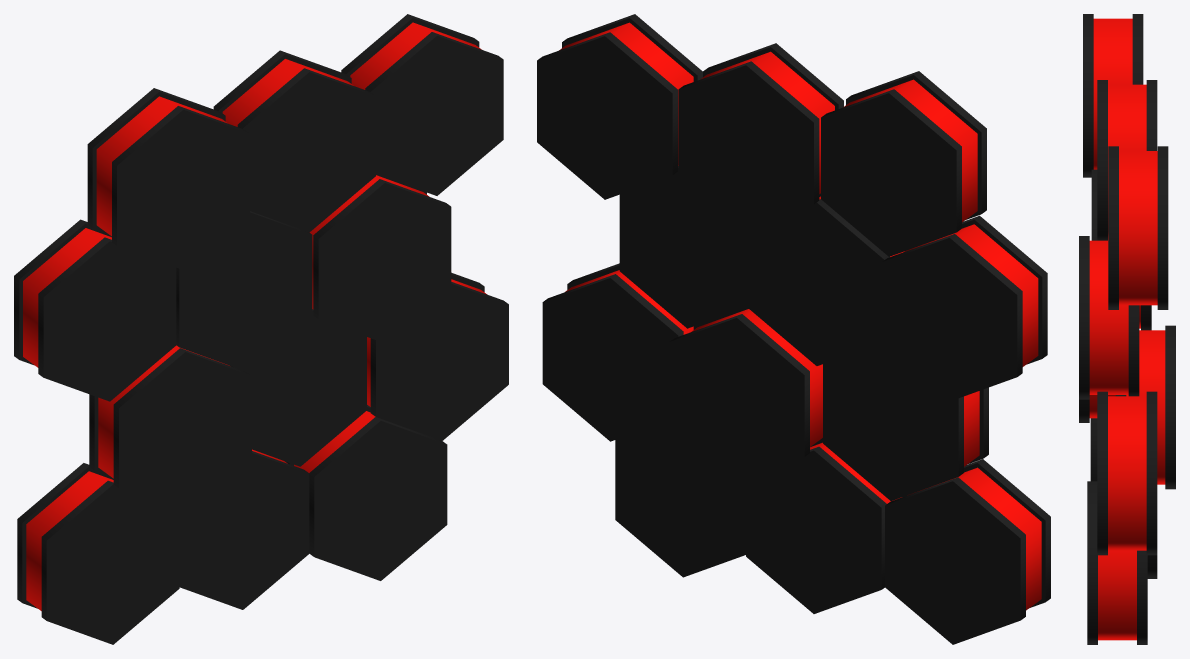
The model's file is Wall_Tile_Uneven_02.fbx.
3 views of the same model, side by side, from view 1: azimuth 30°, elevation 25°; view 2: azimuth 150°, elevation 25°; view 3: azimuth 270°, elevation 25° (orthographic). The views are drawn at different scales.
Parts seen in each view (by area): view 1: Wall_Tile037, Wall_Tile028, Wall_Tile034, Wall_Tile036, Wall_Tile031, Wall_Tile035, Wall_Tile027, Wall_Tile033, Wall_Tile030, Wall_Tile032, Wall_Tile025, Wall_Tile029; view 2: Wall_Tile037, Wall_Tile034, Wall_Tile028, Wall_Tile035, Wall_Tile036, Wall_Tile029, Wall_Tile025, Wall_Tile031, Wall_Tile030, Wall_Tile032, Wall_Tile033, Wall_Tile027; view 3: Wall_Tile030, Wall_Tile036, Wall_Tile033, Wall_Tile027, Wall_Tile037, Wall_Tile035, Wall_Tile029, Wall_Tile032, Wall_Tile028, Wall_Tile031, Wall_Tile025.
Boxes of the visible parts, x1,y1,x2,y2 form: Wall_Tile037: [87, 88, 249, 269]; Wall_Tile028: [17, 463, 179, 644]; Wall_Tile034: [14, 219, 176, 401]; Wall_Tile036: [341, 14, 503, 195]; Wall_Tile031: [89, 345, 251, 512]; Wall_Tile035: [213, 50, 375, 232]; Wall_Tile027: [285, 405, 447, 580]; Wall_Tile033: [309, 174, 451, 343]; Wall_Tile030: [367, 272, 508, 440]; Wall_Tile032: [176, 211, 312, 371]; Wall_Tile025: [179, 449, 309, 609]; Wall_Tile029: [230, 309, 366, 466]; Wall_Tile037: [821, 71, 986, 256]; Wall_Tile034: [882, 215, 1047, 401]; Wall_Tile028: [885, 459, 1050, 644]; Wall_Tile035: [678, 43, 843, 228]; Wall_Tile036: [537, 14, 702, 199]; Wall_Tile029: [669, 306, 822, 481]; Wall_Tile025: [746, 441, 906, 613]; Wall_Tile031: [823, 343, 988, 500]; Wall_Tile030: [542, 263, 693, 441]; Wall_Tile032: [749, 193, 904, 365]; Wall_Tile033: [619, 165, 748, 328]; Wall_Tile027: [615, 420, 745, 577]; Wall_Tile030: [1097, 391, 1157, 555]; Wall_Tile036: [1108, 146, 1168, 309]; Wall_Tile033: [1079, 236, 1139, 399]; Wall_Tile027: [1087, 481, 1147, 644]; Wall_Tile037: [1083, 14, 1143, 177]; Wall_Tile035: [1097, 80, 1157, 240]; Wall_Tile029: [1115, 325, 1175, 489]; Wall_Tile032: [1091, 169, 1151, 330]; Wall_Tile028: [1090, 418, 1097, 481]; Wall_Tile031: [1079, 395, 1115, 422]; Wall_Tile025: [1147, 555, 1157, 578].
Size of the model in its own units: 90.98 by 97.5 by 16.1.
